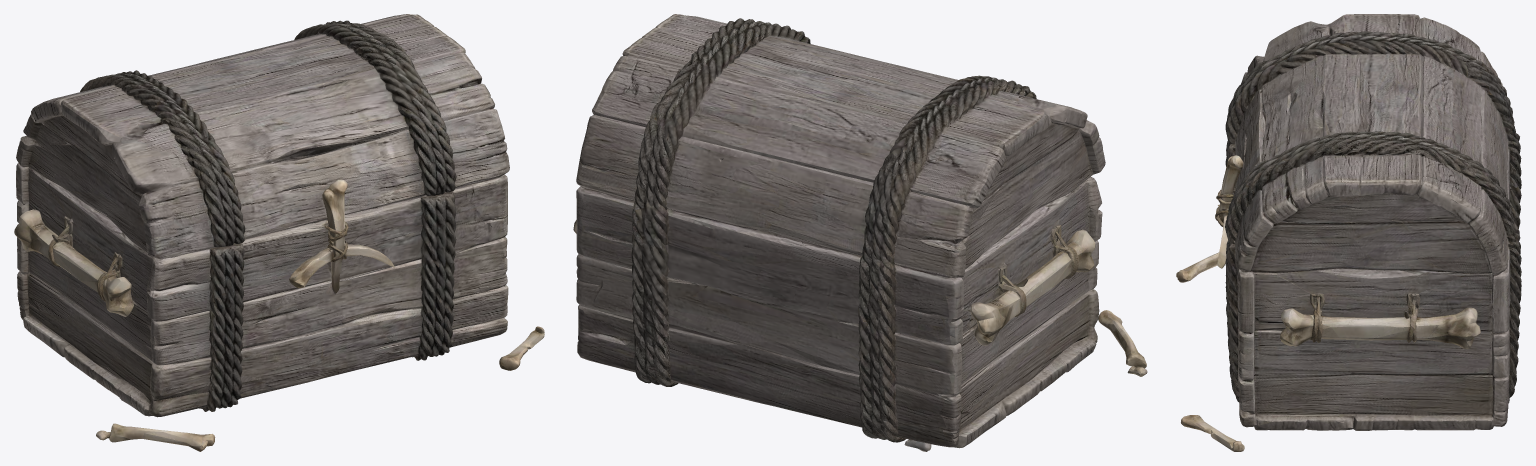
File: sv_chest.glb
The picture shows the model from 3 angles, left to right: view 1: azimuth 30°, elevation 25°; view 2: azimuth 150°, elevation 25°; view 3: azimuth 270°, elevation 25°; orthographic projection. The views are drawn at different scales.
Size of the model in its own units: 1.87 by 1.15 by 1.32.
1 material, 1 textured.
